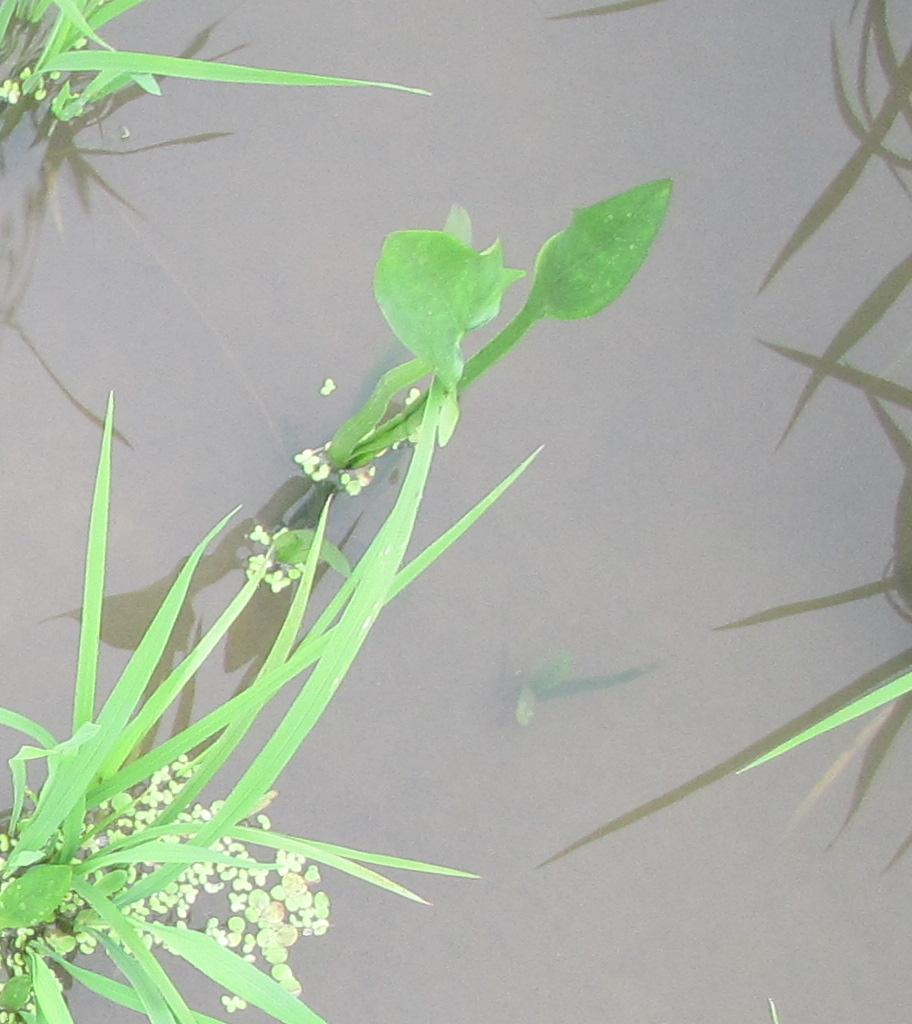Weed: (371, 221, 507, 378), (525, 178, 673, 321)
